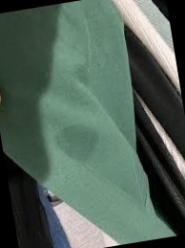oil: (51, 119, 104, 164)
